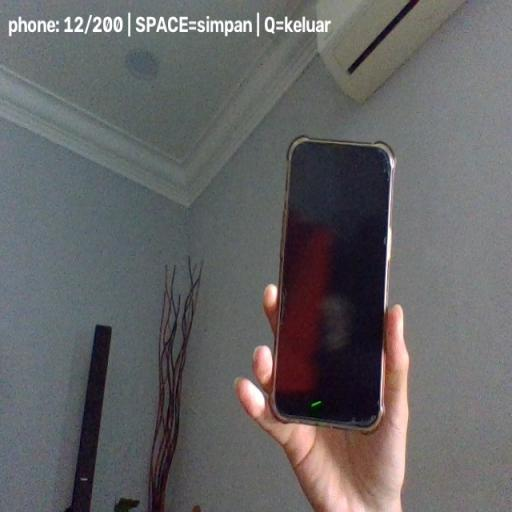Phone: (268, 136, 396, 434)
